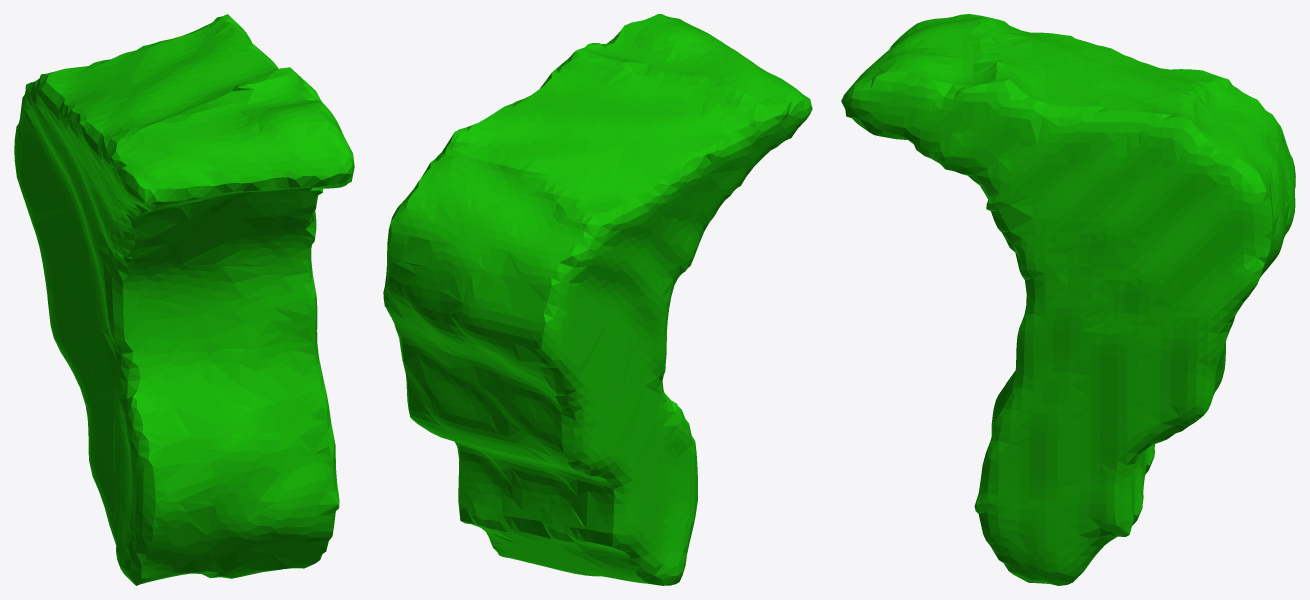
Rendered from Model_91_RH__Fundus_of_superior_temporal_sulcus_area_of_cortex_(FST).obj.
The picture shows the model from 3 angles, left to right: view 1: azimuth 30°, elevation 25°; view 2: azimuth 150°, elevation 25°; view 3: azimuth 270°, elevation 25°; orthographic projection. The views are drawn at different scales.
Size of the model in its own units: 2.56 by 4.61 by 3.89.
